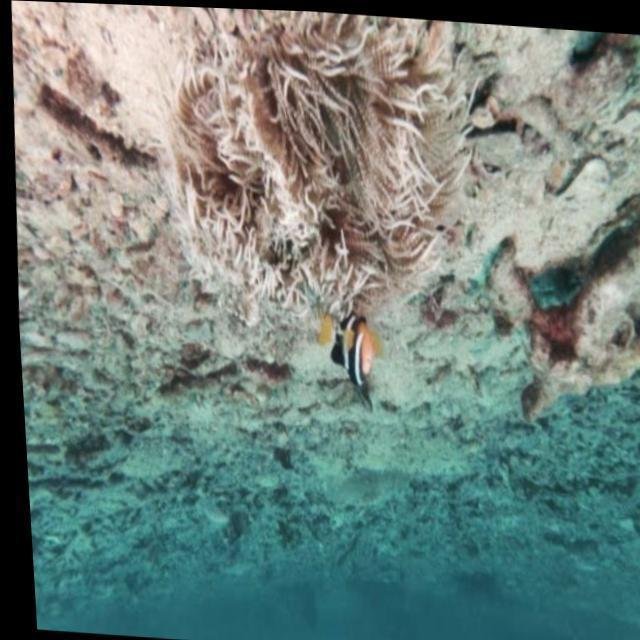Dead Coral: (476, 195, 640, 470), (6, 134, 165, 365)
